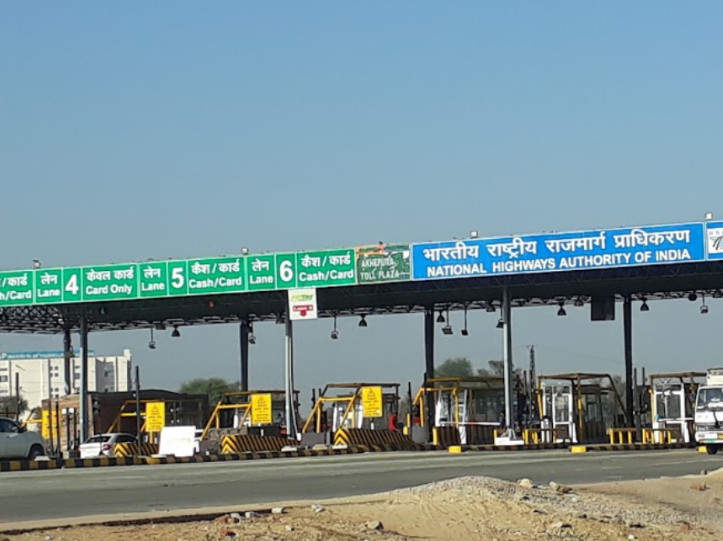toll plaza: (197, 224, 689, 464), (6, 218, 722, 329)
